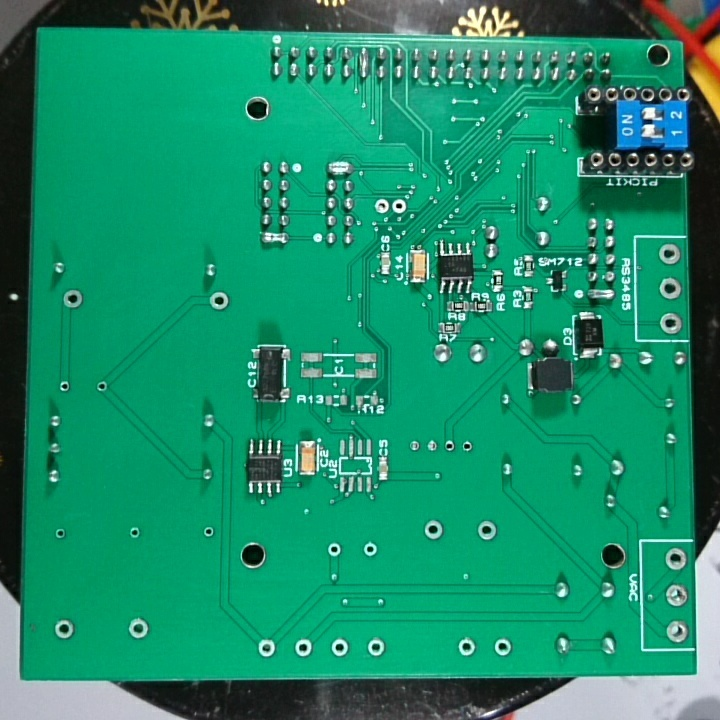F: (662, 618, 691, 646), (657, 308, 684, 335), (664, 580, 689, 608), (421, 517, 447, 543), (60, 286, 86, 312), (126, 616, 151, 643), (656, 241, 680, 269), (473, 520, 501, 544), (664, 546, 687, 574), (658, 275, 683, 300), (207, 289, 232, 312), (53, 615, 74, 641), (456, 635, 479, 658), (330, 635, 351, 659), (292, 637, 314, 659), (324, 539, 347, 560), (257, 636, 276, 660), (491, 637, 512, 658), (366, 638, 387, 658), (390, 195, 409, 217), (360, 540, 380, 560), (371, 196, 390, 217), (441, 438, 458, 457), (127, 523, 141, 543), (93, 378, 109, 395), (56, 379, 73, 395), (201, 523, 216, 540), (424, 438, 439, 455), (407, 438, 422, 454), (53, 526, 67, 542), (461, 439, 475, 455)
P: (584, 286, 617, 306), (356, 43, 372, 80), (258, 229, 289, 248), (324, 158, 354, 176)
